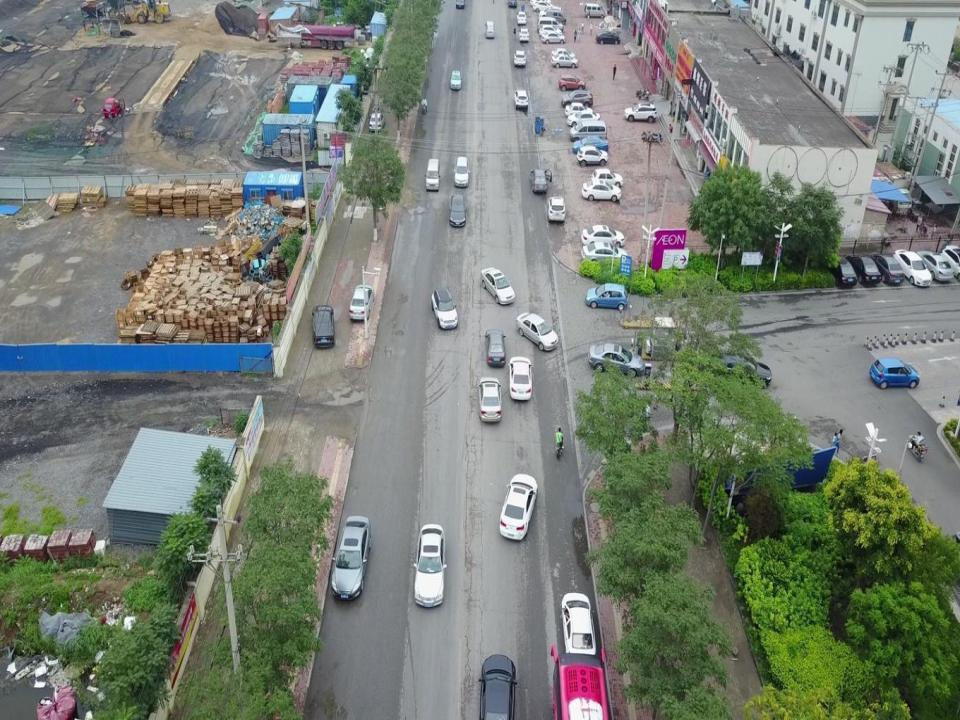bus: (549, 645, 610, 720)
car: (330, 517, 372, 602), (412, 522, 448, 608), (559, 589, 597, 658), (500, 472, 538, 541), (480, 654, 518, 720), (711, 350, 772, 389), (589, 344, 647, 380), (515, 310, 560, 352), (870, 354, 919, 390), (480, 264, 516, 307), (894, 249, 932, 287), (916, 248, 954, 282), (586, 284, 626, 314), (846, 252, 881, 286), (431, 288, 458, 331), (508, 357, 534, 399), (310, 304, 335, 347), (478, 378, 502, 422), (870, 253, 904, 284), (581, 242, 626, 265), (827, 256, 858, 289), (580, 225, 625, 247), (582, 179, 621, 202), (350, 284, 374, 319), (485, 330, 506, 366), (940, 246, 960, 282), (561, 88, 595, 109), (448, 191, 467, 228), (590, 168, 623, 188), (624, 103, 656, 123), (578, 146, 608, 166), (546, 195, 566, 223), (572, 137, 609, 152), (531, 167, 552, 193), (559, 74, 585, 94), (454, 154, 470, 186), (565, 100, 593, 117), (567, 112, 598, 125), (512, 89, 530, 111), (550, 55, 578, 68), (368, 111, 384, 133), (548, 46, 574, 59), (596, 31, 621, 44), (539, 24, 562, 36), (539, 6, 562, 18), (541, 32, 566, 43), (513, 49, 527, 67), (533, 1, 554, 11), (450, 70, 460, 90), (519, 28, 531, 42), (517, 10, 526, 25), (508, 0, 518, 7), (458, 0, 466, 8)
van: (570, 121, 608, 140), (425, 158, 442, 191), (538, 17, 565, 31), (583, 4, 605, 19), (546, 10, 566, 25), (484, 22, 496, 40)
